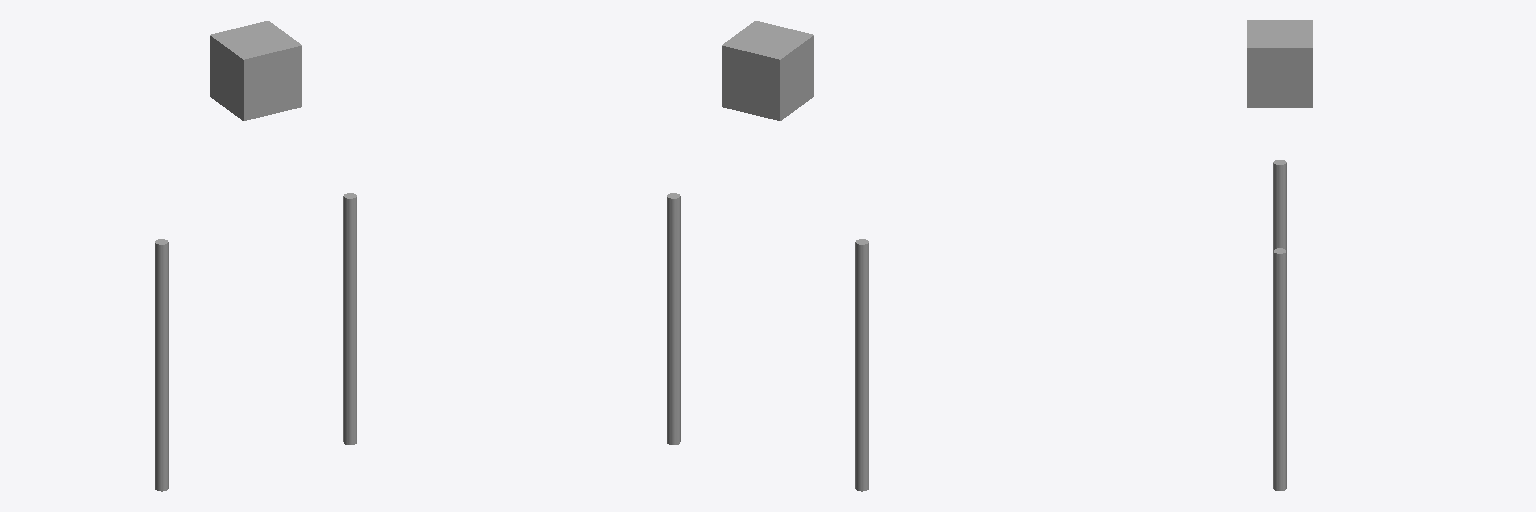
The robot description file, URDF, robot "chopstick_bot":
<?xml version='1.0' encoding='utf-8'?>
<robot name="chopstick_bot">
  <link name="base_motor_link">
    <visual>
      <origin xyz="0.000000 0.000000 0.000000" rpy="0.000000 0.000000 0.000000" />
      <geometry>
        <mesh filename="[local-path]/T7_UBUNTU_ONLY/Codesign_ChopstickBot_all_files/reference/xm430_motor/good_conversion_stl/XL-430_new_coordinate_on_axis.STL" scale="0.001000 0.001000 0.001000" />
        </geometry>
      <material name="motor_mat">
        <color rgba="0.89804 0.91765 0.92941 1.0" />
        </material>
      </visual>
    <collision>
      <origin xyz="0.000000 -0.012000 0.000000" rpy="0.000000 0.000000 0.000000" />
      <geometry>
        <box size="0.028500 0.046500 0.034000" />
        </geometry>
      </collision>
    <inertial>
      <origin xyz="0.000000 -0.012000 0.000000" rpy="0.000000 0.000000 0.000000" />
      <mass value="0.065000" />
      <inertia ixx="0.000017973854" ixy="0" ixz="0" iyy="0.000010661354" iyz="0" izz="0.000016111875" />
      </inertial>
    </link>
  <link name="l_hip_pitch">
    <visual>
      <origin xyz="0.000000 0.000000 0.000000" rpy="0.000000 0.000000 0.000000" />
      <geometry>
        <mesh filename="[local-path]/T7_UBUNTU_ONLY/Codesign_ChopstickBot_all_files/reference/xm430_motor/good_conversion_stl/XL-430_new_coordinate_on_axis.STL" scale="0.001000 0.001000 0.001000" />
        </geometry>
      <material name="motor_mat">
        <color rgba="0.89804 0.91765 0.92941 1.0" />
        </material>
      </visual>
    <collision>
      <origin xyz="0.000000 -0.012000 0.000000" rpy="0.000000 0.000000 0.000000" />
      <geometry>
        <box size="0.028500 0.046500 0.034000" />
        </geometry>
      </collision>
    <inertial>
      <origin xyz="0.000000 -0.012000 0.000000" rpy="0.000000 0.000000 0.000000" />
      <mass value="0.065000" />
      <inertia ixx="0.000017973854" ixy="0" ixz="0" iyy="0.000010661354" iyz="0" izz="0.000016111875" />
      </inertial>
    </link>
  <link name="l_hip_pitch_out" />
  <joint name="l_hip_pitch_mount_fixed" type="fixed">
    <origin xyz="-0.040000 0.000000 0.000000" rpy="0.000000 -1.570796 0.000000" />
    <parent link="base_motor_link" />
    <child link="l_hip_pitch" />
    </joint>
  <joint name="l_hip_pitch_joint" type="revolute">
    <origin xyz="0.000000 0.000000 0.000000" rpy="0.000000 0.000000 0.000000" />
    <parent link="l_hip_pitch" />
    <child link="l_hip_pitch_out" />
    <axis xyz="0.000000 0.000000 1.000000" />
    <limit lower="-3.14159" upper="3.14159" effort="5.0" velocity="8.0" />
    </joint>
  <link name="l_hip_roll">
    <visual>
      <origin xyz="0.000000 0.000000 0.000000" rpy="0.000000 0.000000 0.000000" />
      <geometry>
        <mesh filename="[local-path]/T7_UBUNTU_ONLY/Codesign_ChopstickBot_all_files/reference/xm430_motor/good_conversion_stl/XL-430_new_coordinate_on_axis.STL" scale="0.001000 0.001000 0.001000" />
        </geometry>
      <material name="motor_mat">
        <color rgba="0.89804 0.91765 0.92941 1.0" />
        </material>
      </visual>
    <collision>
      <origin xyz="0.000000 -0.012000 0.000000" rpy="0.000000 0.000000 0.000000" />
      <geometry>
        <box size="0.028500 0.046500 0.034000" />
        </geometry>
      </collision>
    <inertial>
      <origin xyz="0.000000 -0.012000 0.000000" rpy="0.000000 0.000000 0.000000" />
      <mass value="0.065000" />
      <inertia ixx="0.000017973854" ixy="0" ixz="0" iyy="0.000010661354" iyz="0" izz="0.000016111875" />
      </inertial>
    </link>
  <link name="l_hip_roll_out" />
  <joint name="l_hip_roll_mount_fixed" type="fixed">
    <origin xyz="0.000000 0.000000 0.040000" rpy="0.000000 -1.570796 -1.570796" />
    <parent link="l_hip_pitch_out" />
    <child link="l_hip_roll" />
    </joint>
  <joint name="l_hip_roll_joint" type="revolute">
    <origin xyz="0.000000 0.000000 0.000000" rpy="0.000000 0.000000 0.000000" />
    <parent link="l_hip_roll" />
    <child link="l_hip_roll_out" />
    <axis xyz="0.000000 0.000000 1.000000" />
    <limit lower="-3.14159" upper="3.14159" effort="5.0" velocity="8.0" />
    </joint>
  <link name="l_end_effector">
    <visual>
      <origin xyz="0.000000 0.000000 0.000000" rpy="1.570796 0.000000 0.000000" />
      <geometry>
        <cylinder radius="0.005000" length="0.200000" />
        </geometry>
      <material name="cylinder_mat">
        <color rgba="0.7 0.7 0.7 1.0" />
        </material>
      </visual>
    <collision>
      <origin xyz="0.000000 0.000000 0.000000" rpy="1.570796 0.000000 0.000000" />
      <geometry>
        <cylinder radius="0.005000" length="0.200000" />
        </geometry>
      </collision>
    <inertial>
      <origin xyz="0.000000 0.000000 0.000000" rpy="0.000000 0.000000 0.000000" />
      <mass value="0.030000" />
      <inertia ixx="0.000100187500" ixy="0" ixz="0" iyy="0.000100187500" iyz="0" izz="0.000000375000" />
      </inertial>
    </link>
  <joint name="l_end_effector_fixed" type="fixed">
    <origin xyz="0.000000 -0.170000 0.000000" rpy="0.000000 0.000000 0.000000" />
    <parent link="l_hip_roll_out" />
    <child link="l_end_effector" />
    </joint>
  <link name="r_hip_pitch">
    <visual>
      <origin xyz="0.000000 0.000000 0.000000" rpy="0.000000 0.000000 0.000000" />
      <geometry>
        <mesh filename="[local-path]/T7_UBUNTU_ONLY/Codesign_ChopstickBot_all_files/reference/xm430_motor/good_conversion_stl/XL-430_new_coordinate_on_axis.STL" scale="0.001000 0.001000 0.001000" />
        </geometry>
      <material name="motor_mat">
        <color rgba="0.89804 0.91765 0.92941 1.0" />
        </material>
      </visual>
    <collision>
      <origin xyz="0.000000 -0.012000 0.000000" rpy="0.000000 0.000000 0.000000" />
      <geometry>
        <box size="0.028500 0.046500 0.034000" />
        </geometry>
      </collision>
    <inertial>
      <origin xyz="0.000000 -0.012000 0.000000" rpy="0.000000 0.000000 0.000000" />
      <mass value="0.065000" />
      <inertia ixx="0.000017973854" ixy="0" ixz="0" iyy="0.000010661354" iyz="0" izz="0.000016111875" />
      </inertial>
    </link>
  <link name="r_hip_pitch_out" />
  <joint name="r_hip_pitch_mount_fixed" type="fixed">
    <origin xyz="0.040000 0.000000 0.000000" rpy="0.000000 1.570796 -0.000000" />
    <parent link="base_motor_link" />
    <child link="r_hip_pitch" />
    </joint>
  <joint name="r_hip_pitch_joint" type="revolute">
    <origin xyz="0.000000 0.000000 0.000000" rpy="0.000000 0.000000 0.000000" />
    <parent link="r_hip_pitch" />
    <child link="r_hip_pitch_out" />
    <axis xyz="0.000000 0.000000 1.000000" />
    <limit lower="-3.14159" upper="3.14159" effort="5.0" velocity="8.0" />
    </joint>
  <link name="r_hip_roll">
    <visual>
      <origin xyz="0.000000 0.000000 0.000000" rpy="0.000000 0.000000 0.000000" />
      <geometry>
        <mesh filename="[local-path]/T7_UBUNTU_ONLY/Codesign_ChopstickBot_all_files/reference/xm430_motor/good_conversion_stl/XL-430_new_coordinate_on_axis.STL" scale="0.001000 0.001000 0.001000" />
        </geometry>
      <material name="motor_mat">
        <color rgba="0.89804 0.91765 0.92941 1.0" />
        </material>
      </visual>
    <collision>
      <origin xyz="0.000000 -0.012000 0.000000" rpy="0.000000 0.000000 0.000000" />
      <geometry>
        <box size="0.028500 0.046500 0.034000" />
        </geometry>
      </collision>
    <inertial>
      <origin xyz="0.000000 -0.012000 0.000000" rpy="0.000000 0.000000 0.000000" />
      <mass value="0.065000" />
      <inertia ixx="0.000017973854" ixy="0" ixz="0" iyy="0.000010661354" iyz="0" izz="0.000016111875" />
      </inertial>
    </link>
  <link name="r_hip_roll_out" />
  <joint name="r_hip_roll_mount_fixed" type="fixed">
    <origin xyz="-0.000000 0.000000 0.040000" rpy="0.000000 1.570796 1.570796" />
    <parent link="r_hip_pitch_out" />
    <child link="r_hip_roll" />
    </joint>
  <joint name="r_hip_roll_joint" type="revolute">
    <origin xyz="0.000000 0.000000 0.000000" rpy="0.000000 0.000000 0.000000" />
    <parent link="r_hip_roll" />
    <child link="r_hip_roll_out" />
    <axis xyz="0.000000 0.000000 1.000000" />
    <limit lower="-3.14159" upper="3.14159" effort="5.0" velocity="8.0" />
    </joint>
  <link name="r_end_effector">
    <visual>
      <origin xyz="0.000000 0.000000 0.000000" rpy="1.570796 0.000000 0.000000" />
      <geometry>
        <cylinder radius="0.005000" length="0.200000" />
        </geometry>
      <material name="cylinder_mat">
        <color rgba="0.7 0.7 0.7 1.0" />
        </material>
      </visual>
    <collision>
      <origin xyz="0.000000 0.000000 0.000000" rpy="1.570796 0.000000 0.000000" />
      <geometry>
        <cylinder radius="0.005000" length="0.200000" />
        </geometry>
      </collision>
    <inertial>
      <origin xyz="0.000000 0.000000 0.000000" rpy="0.000000 0.000000 0.000000" />
      <mass value="0.030000" />
      <inertia ixx="0.000100187500" ixy="0" ixz="0" iyy="0.000100187500" iyz="0" izz="0.000000375000" />
      </inertial>
    </link>
  <joint name="r_end_effector_fixed" type="fixed">
    <origin xyz="-0.000000 -0.170000 0.000000" rpy="0.000000 -0.000000 0.000000" />
    <parent link="r_hip_roll_out" />
    <child link="r_end_effector" />
    </joint>
  <link name="trunk_link">
    <visual>
      <origin xyz="0.000000 0.000000 0.000000" rpy="0.000000 0.000000 0.000000" />
      <geometry>
        <box size="0.050000 0.050000 0.050000" />
        </geometry>
      <material name="box_mat">
        <color rgba="0.7 0.7 0.7 1.0" />
        </material>
      </visual>
    <collision>
      <origin xyz="0.000000 0.000000 0.000000" rpy="0.000000 0.000000 0.000000" />
      <geometry>
        <box size="0.050000 0.050000 0.050000" />
        </geometry>
      </collision>
    <inertial>
      <origin xyz="0.000000 0.000000 0.000000" rpy="0.000000 0.000000 0.000000" />
      <mass value="0.200000" />
      <inertia ixx="0.000083333333" ixy="0" ixz="0" iyy="0.000083333333" iyz="0" izz="0.000083333333" />
      </inertial>
    </link>
  <joint name="base_to_trunk" type="revolute">
    <origin xyz="0.000000 0.000000 0.050000" rpy="0.000000 0.000000 0.000000" />
    <parent link="base_motor_link" />
    <child link="trunk_link" />
    <axis xyz="0.000000 0.000000 1.000000" />
    <limit lower="-3.14159" upper="3.14159" effort="5.0" velocity="8.0" />
    </joint>
  </robot>

--- What the picture shows (computed from the rendered views, not written in the file) ---
3 views of the same robot in one strip: view 1: azimuth 30°, elevation 25°; view 2: azimuth 150°, elevation 25°; view 3: azimuth 270°, elevation 25° (orthographic).
Robot: chopstick_bot — 12 links, 11 joints (5 revolute, 6 fixed); root link base_motor_link; default pose: all joints at 0.
Links seen in each view (by area): view 1: trunk_link, l_end_effector, r_end_effector; view 2: trunk_link, l_end_effector, r_end_effector; view 3: trunk_link, r_end_effector, l_end_effector.
Boxes of the visible links, box(x1,y1,x2,y2) form: trunk_link: box(210, 21, 301, 120); l_end_effector: box(155, 239, 168, 491); r_end_effector: box(343, 193, 356, 444); trunk_link: box(722, 21, 813, 120); l_end_effector: box(855, 239, 868, 491); r_end_effector: box(667, 193, 680, 444); trunk_link: box(1247, 20, 1312, 107); r_end_effector: box(1273, 248, 1286, 490); l_end_effector: box(1273, 160, 1286, 250).
Size in the robot's own frame: 0.17 by 0.05 by 0.345 metres.
Geometry: only primitive shapes (box / cylinder / sphere) drawn; not drawn: 5 mesh visuals (reference in a form the renderer does not follow).